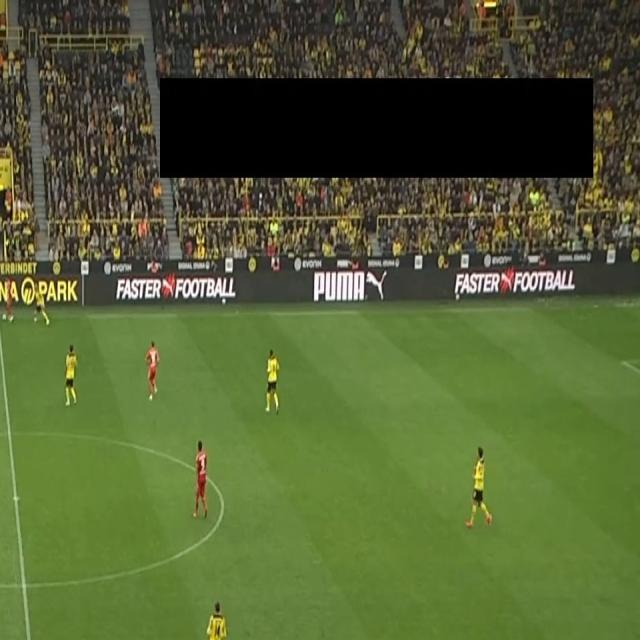ball: (2, 312, 7, 322)
